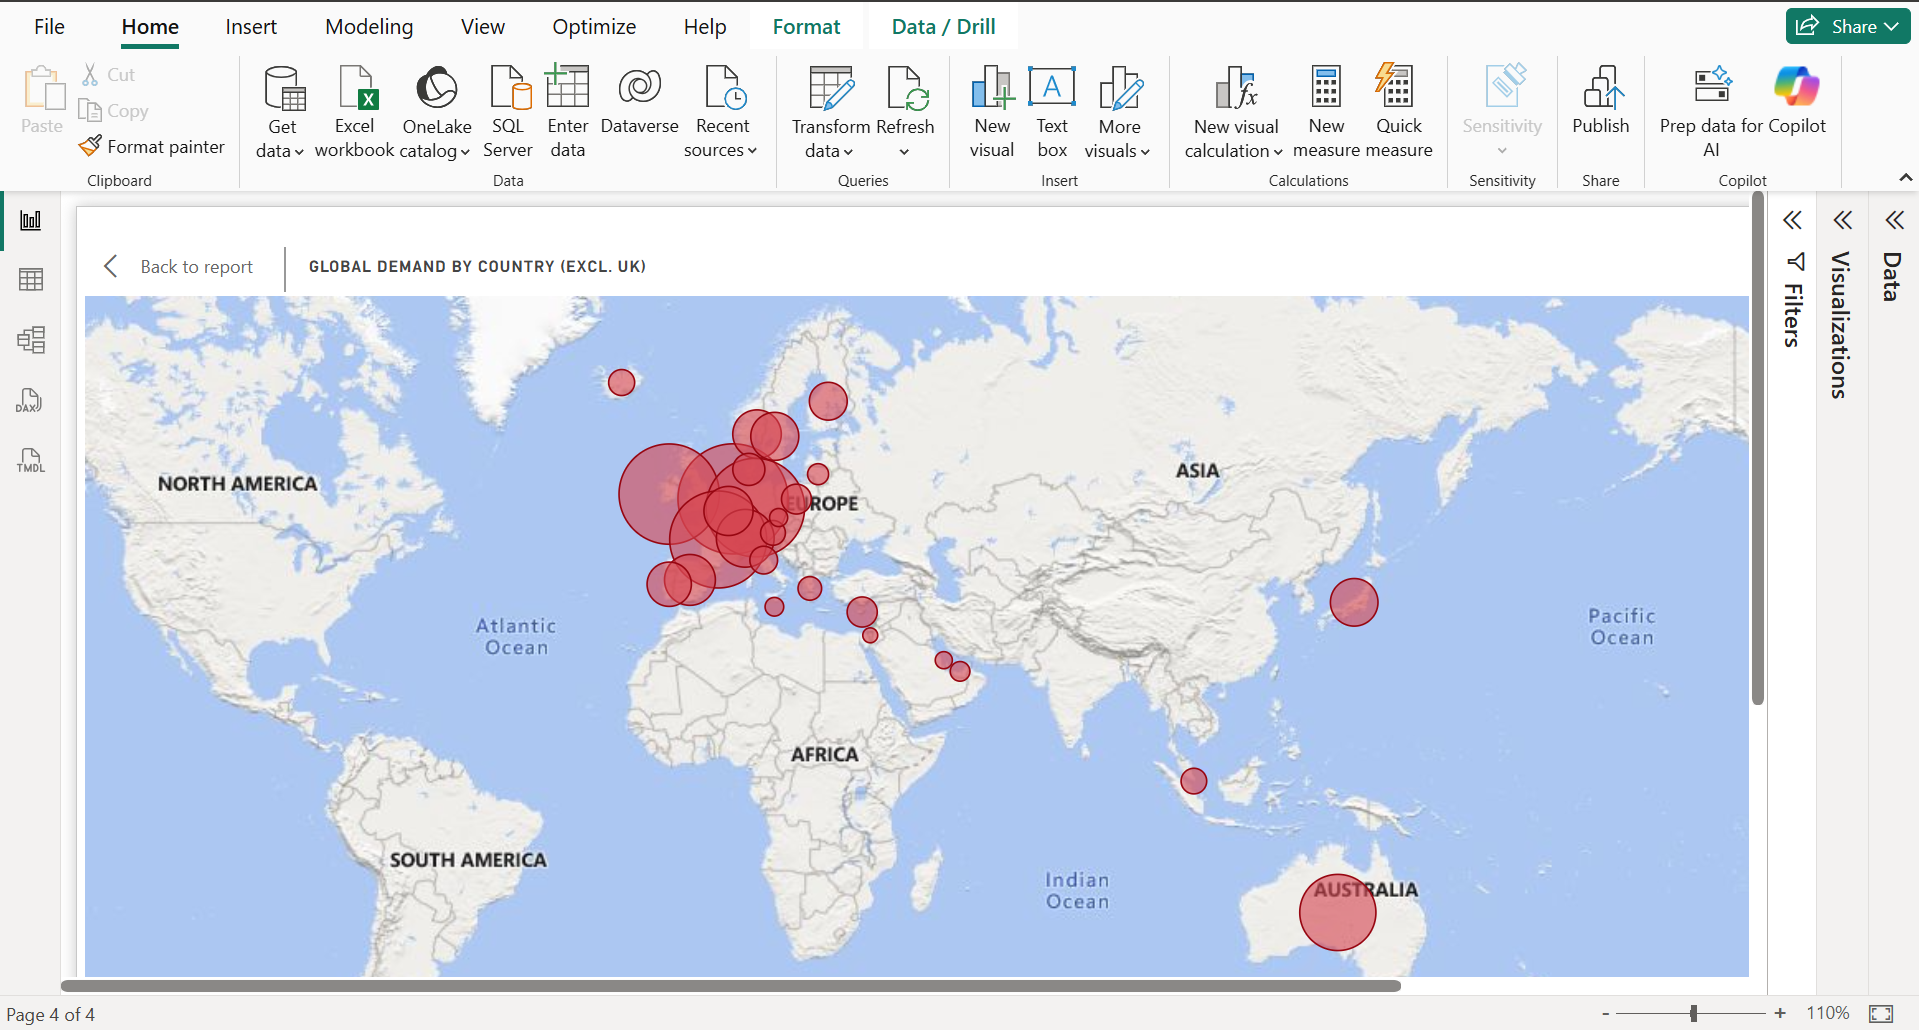

This screenshot's page, from the dashboard's own definition file:
{"tool":"powerbi","page":{"name":"Q4","canvas":[1280,720],"ordinal":3},"visuals":[{"type":"map","title":"Global Demand by Country (Excl. UK)","fields":{"Category":["Online Retail Data Set.Country"],"Size":["Sum(Online Retail Data Set.Quantity)"]},"box":[230,50,782,566],"z":0}]}

Visuals, with their boxes on the page's 1280x720 design canvas (x1, y1, x2, y2). These are canvas units, not pixel positions in the 1919x1030 screenshot, which may show the page scaled, cropped or inside an application window:
"Global Demand by Country (Excl. UK)" map: <region>230, 50, 1012, 616</region>
